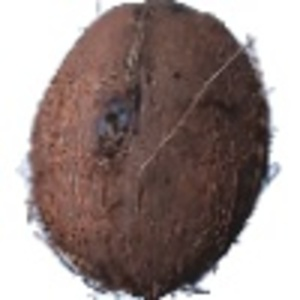coco: (17, 1, 282, 300)
